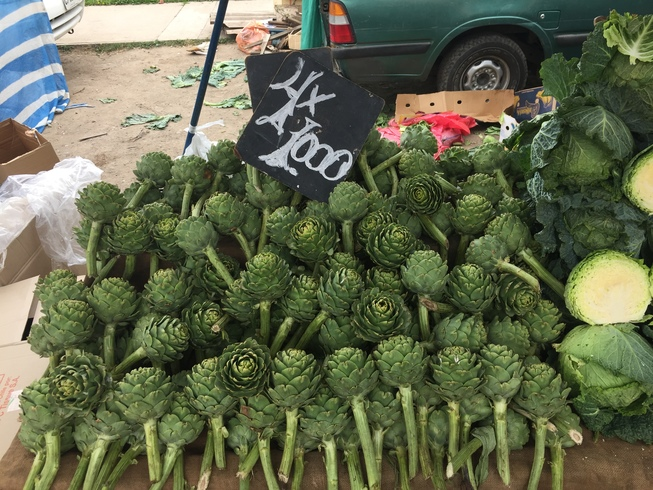precio: (230, 49, 388, 210)
